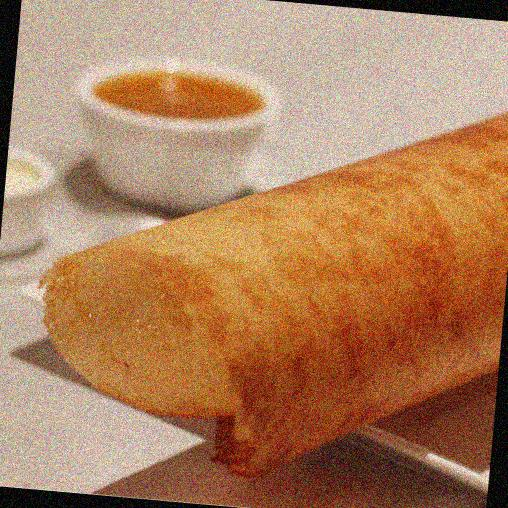dosa: (35, 109, 508, 481)
